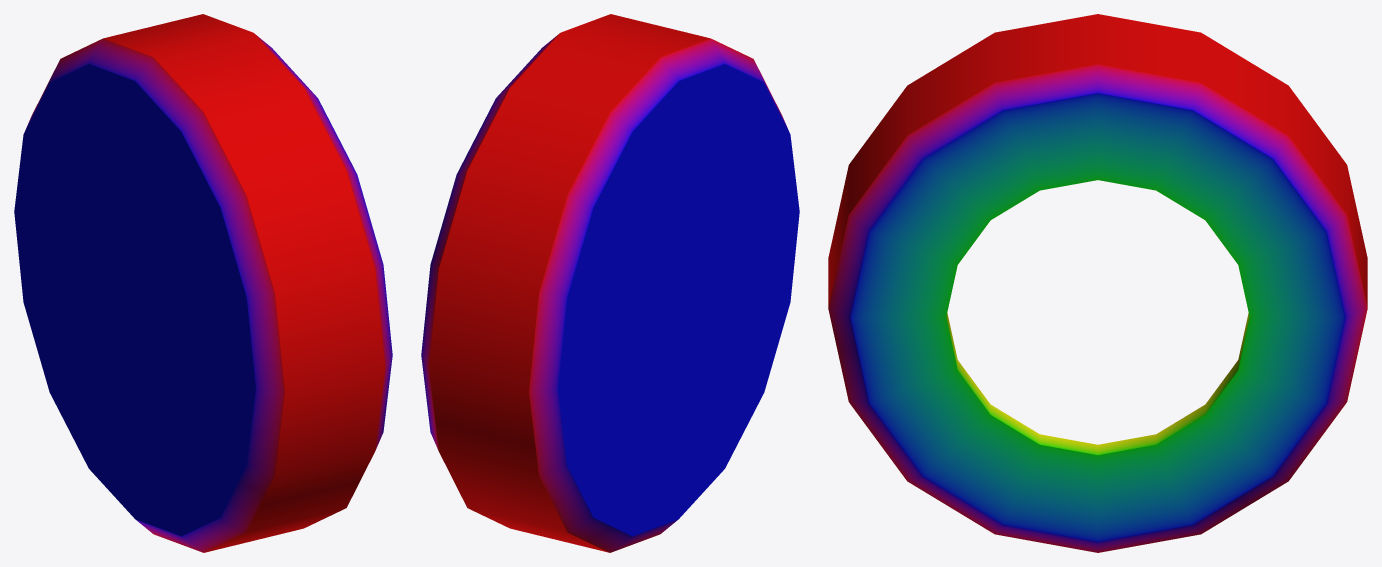
The model's file is wheelGeneric.glb.
The picture shows the model from 3 angles, left to right: view 1: azimuth 30°, elevation 25°; view 2: azimuth 150°, elevation 25°; view 3: azimuth 270°, elevation 25°; orthographic projection. The views are drawn at different scales.
Visible parts, largest first — view 1: Tire; view 2: Tire; view 3: Tire.
Boxes of the visible parts, box(x1,y1,x2,y2) form: Tire: box(14, 14, 392, 552); Tire: box(421, 14, 799, 552); Tire: box(828, 14, 1367, 552).
Bounding box in the file's own units: 0.6 × 2 × 2.
